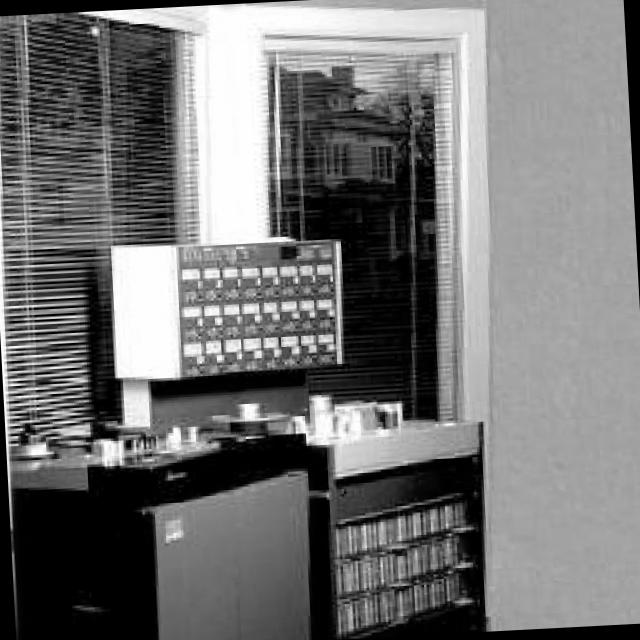2006: (0, 12, 205, 456), (263, 35, 458, 419)
filing cabinet: (108, 235, 340, 377)
furniture crop: (9, 418, 312, 640), (206, 409, 484, 633)
